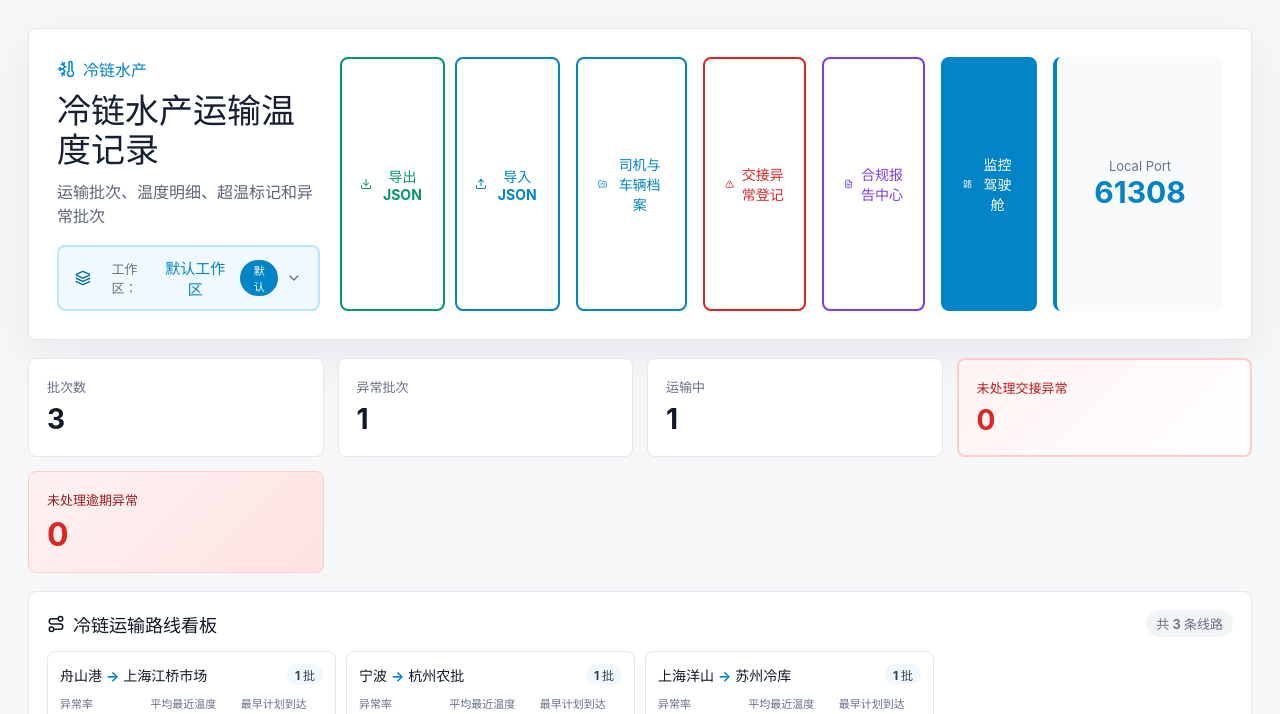
Scenario: App 冒烟测试 - 核心页面路径 › 报告生成 › 合规报告中心面板可打开
This screenshot has width=1280, height=714.
Click the button "合规报告中心" at point(874, 184), box left=822, top=57, right=925, bottom=311
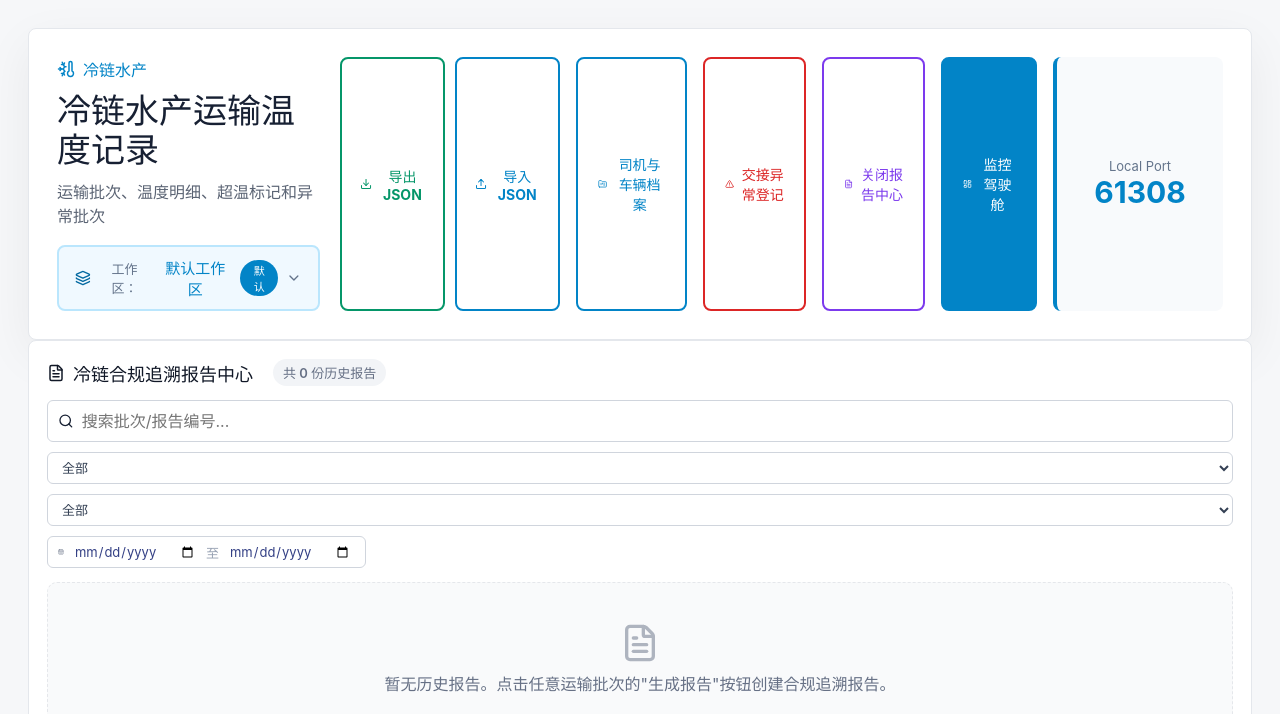
Check: the heading "冷链合规追溯报告中心" is shown, box left=73, top=360, right=253, bottom=386
